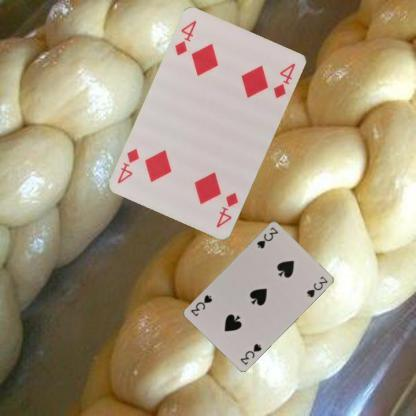3s: (237, 341, 263, 366), (254, 224, 279, 249)
4d: (214, 190, 240, 230), (172, 18, 198, 57)
